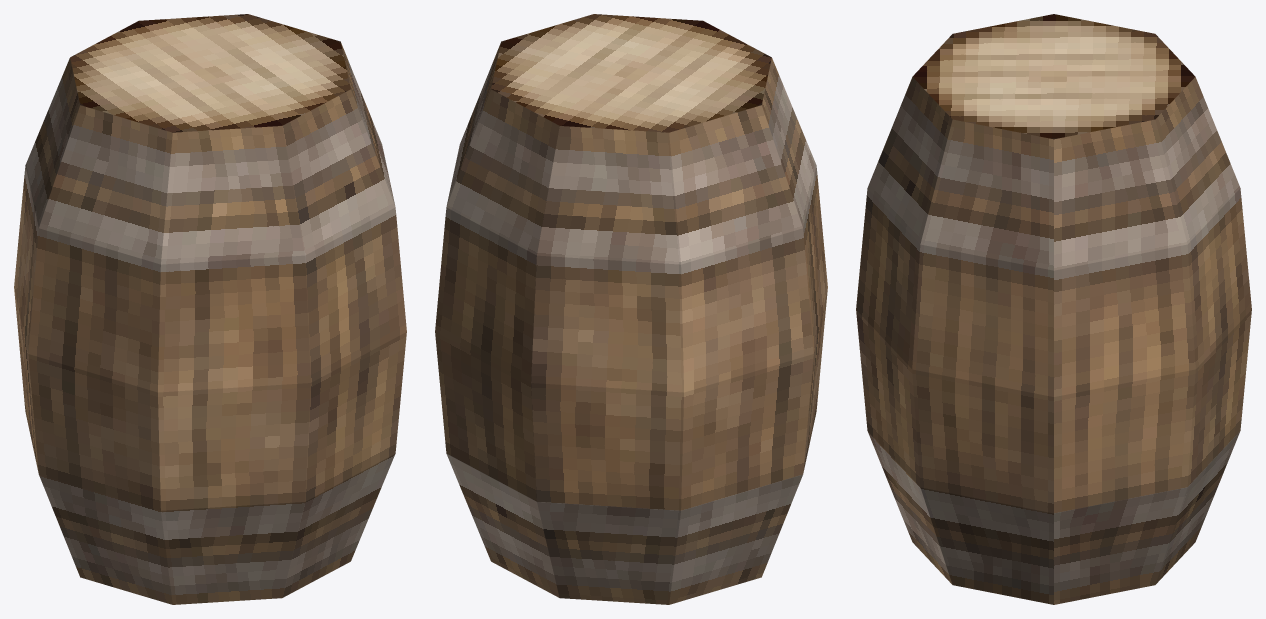
The model's file is Barrel.glb.
3 renders of one model, left to right at view 1: azimuth 30°, elevation 25°; view 2: azimuth 150°, elevation 25°; view 3: azimuth 270°, elevation 25°, orthographic.
Parts seen in each view (by area): view 1: Cube; view 2: Cube; view 3: Cube.
Part boxes in pixels (<box>): Cube: <box>14,14,406,604</box>; Cube: <box>435,14,827,604</box>; Cube: <box>856,14,1251,604</box>.
Bounding box in the file's own units: 3.11 × 3.85 × 2.96.
2 materials, 2 textured.
